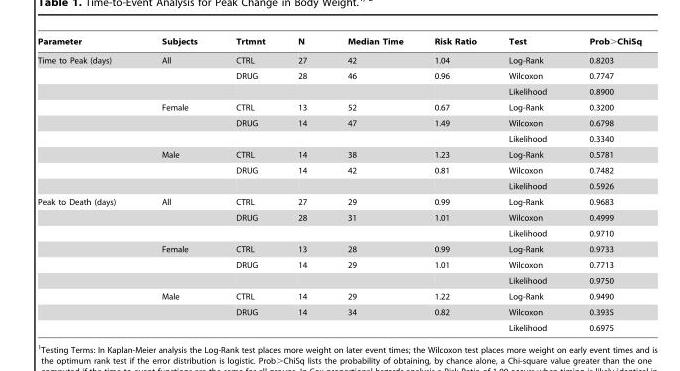table: (37, 36, 641, 332)
table column: (37, 36, 138, 332), (326, 36, 418, 332), (138, 36, 216, 332), (492, 36, 567, 332), (418, 36, 492, 332), (567, 36, 641, 332), (216, 36, 280, 332), (280, 36, 326, 332)
table column header: (37, 36, 641, 50)
table row: (37, 50, 641, 67), (37, 67, 641, 83), (37, 83, 641, 99), (37, 99, 641, 115), (37, 130, 641, 146), (37, 146, 641, 162), (37, 162, 641, 178), (37, 193, 641, 209), (37, 209, 641, 225), (37, 225, 641, 241), (37, 256, 641, 272), (37, 272, 641, 288), (37, 288, 641, 304), (37, 115, 641, 130), (37, 178, 641, 193), (37, 241, 641, 256), (37, 304, 641, 319), (37, 36, 641, 50), (37, 319, 641, 332)
table spanning cell: (37, 50, 138, 193), (37, 193, 138, 332)
